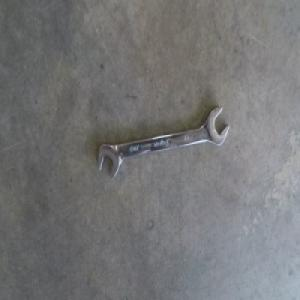Wrench: (97, 107, 231, 182)
